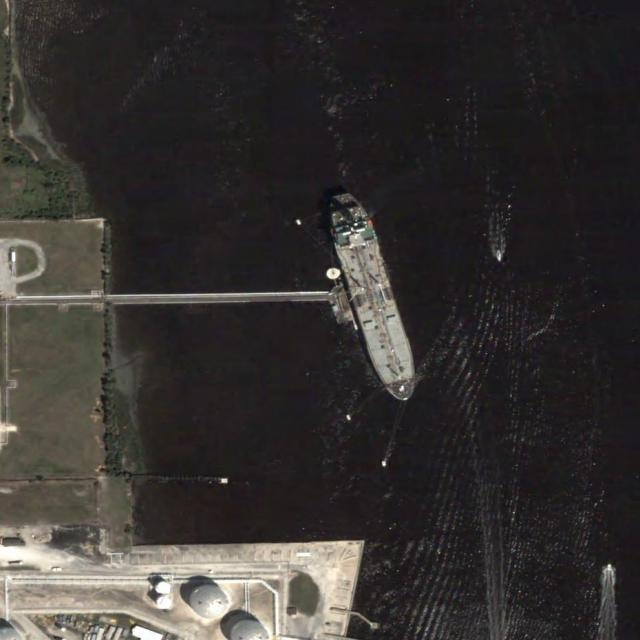Cargo: (319, 185, 425, 408)
Dock: (105, 290, 328, 305)
